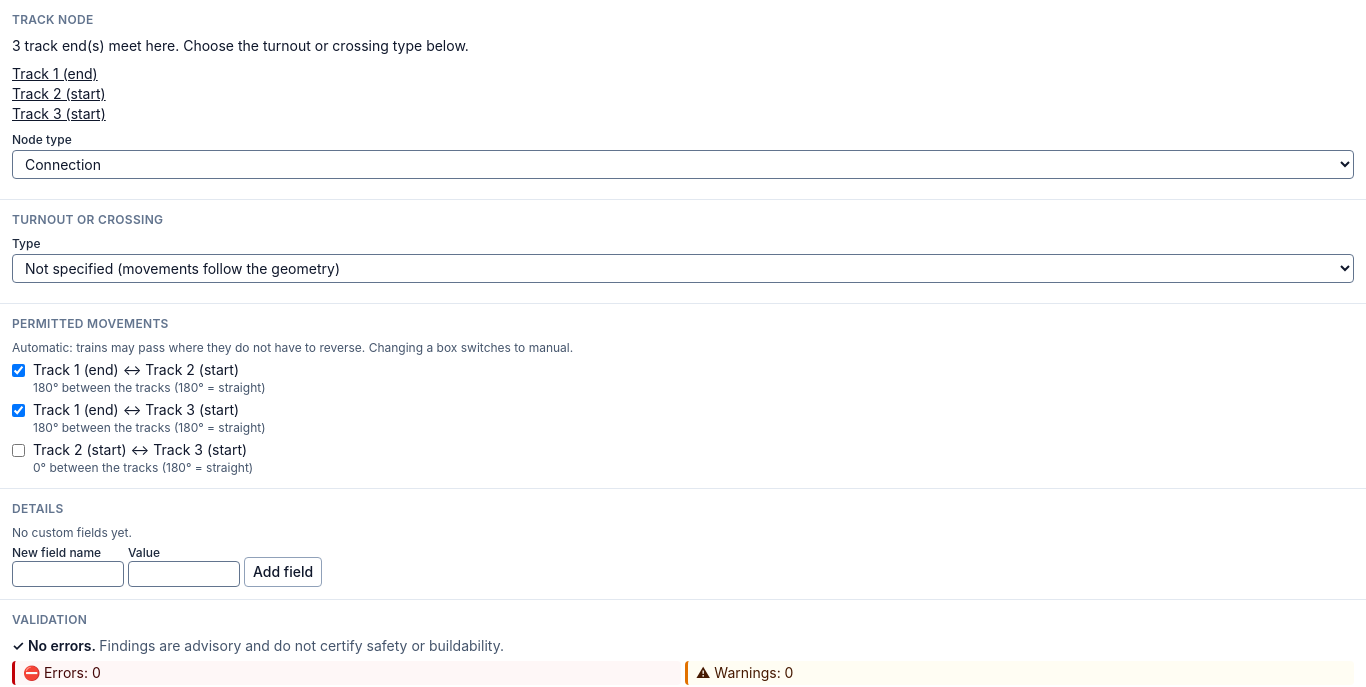
turnout section › sets a turnout with a standard design from the node inspector (keyboard and pointer)
Select "Turnout (single switch)" in the dropdown labelled "Type" at (683, 268), box top-left (12, 254), bottom-right (1354, 283)
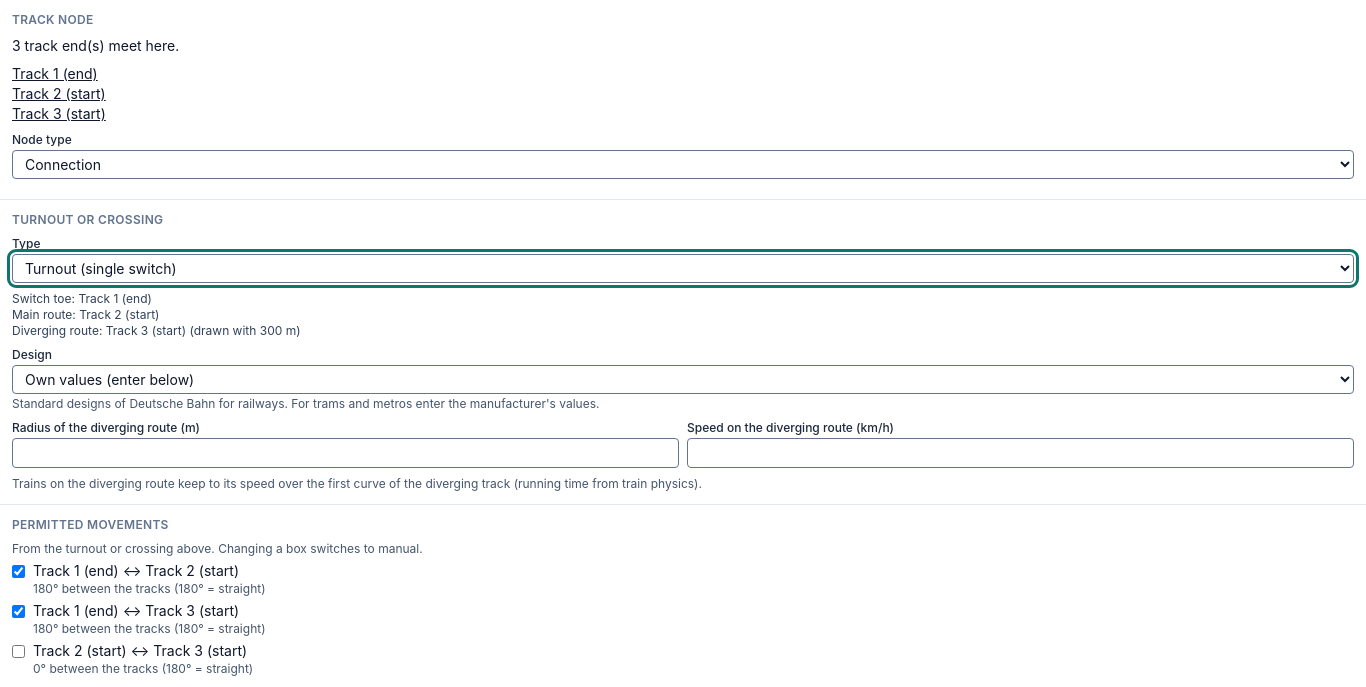
Result: the list item "Switch toe: Track 1 (end)" is shown at top-left (12, 291), bottom-right (152, 306)
Result: the list item "Diverging route: Track 3 (start) (drawn with 300 m)" is shown at top-left (12, 323), bottom-right (301, 338)
Select "EW 300-1:9 (DB, 50 km/h diverging)" in the dropdown labelled "Design" at (683, 380), box top-left (12, 365), bottom-right (1354, 394)
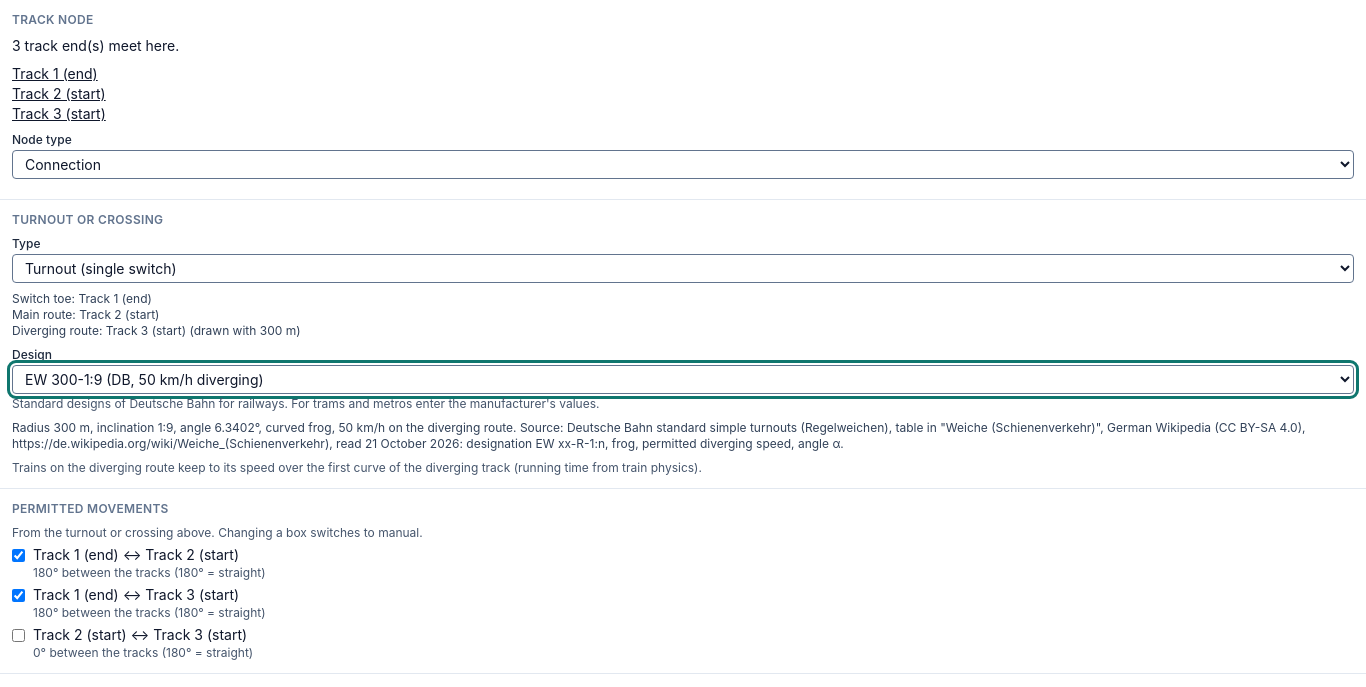
Result: the text "50 km/h on the diverging route" is shown at top-left (12, 420), bottom-right (1354, 452)
